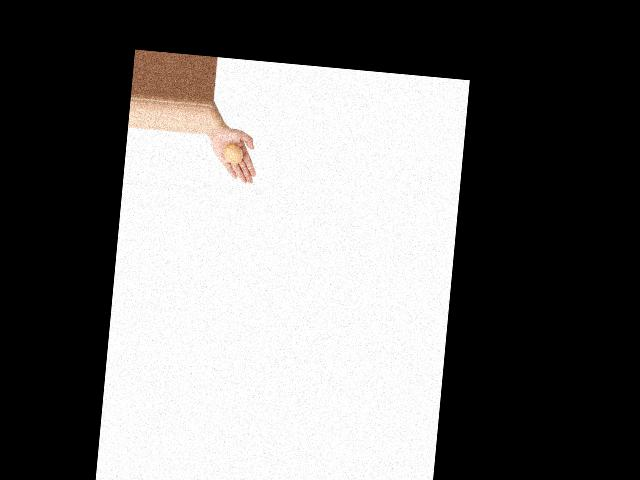egg: (222, 142, 243, 163)
